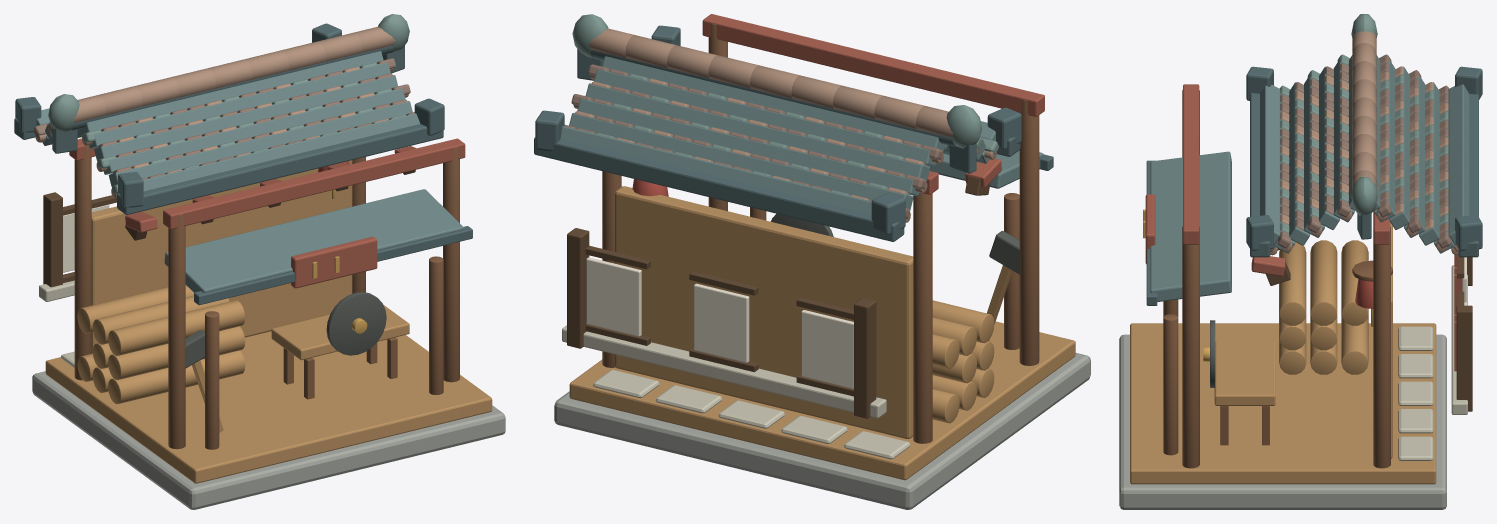
The model's file is building_lumber_open.glb.
The picture shows the model from 3 angles, left to right: view 1: azimuth 30°, elevation 25°; view 2: azimuth 150°, elevation 25°; view 3: azimuth 270°, elevation 25°; orthographic projection. The views are drawn at different scales.
Visible parts, largest first — view 1: V4_wood_light.002, V4_roof.002, V4_wood.002, V4_roof_edge.002, V4_stone.002, V4_wood_red.002, V4_roof_terracotta_light.002, V4_iron, V4_roof_moss.002, V4_roof_terracotta.002, V4_wood_dark.002, V4_plaster_light.002 (+1 smaller); view 2: V4_wood_light.002, V4_roof.002, V4_stone.002, V4_roof_edge.002, V4_wood.002, V4_plaster_light.002, V4_stone_light.002, V4_roof_terracotta_light.002, V4_wood_red.002, V4_wood_dark.002, V4_roof_moss.002, V4_roof_terracotta.002 (+1 smaller); view 3: V4_wood_light.002, V4_roof.002, V4_wood.002, V4_stone.002, V4_roof_terracotta.002, V4_roof_terracotta_light.002, V4_roof_edge.002, V4_stone_light.002, V4_wood_red.002, V4_roof_moss.002, V4_wood_dark.002, V4_cloth_red.001.
Part boxes in pixels (x1,y1,x2,y2): V4_wood_light.002: (45,160,492,483); V4_roof.002: (36,51,463,292); V4_wood.002: (74,145,459,449); V4_roof_edge.002: (14,23,472,305); V4_stone.002: (32,371,505,509); V4_wood_red.002: (69,138,465,288); V4_roof_terracotta_light.002: (35,26,408,197); V4_iron: (185,292,386,368); V4_roof_moss.002: (48,14,409,194); V4_roof_terracotta.002: (33,58,414,179); V4_wood_dark.002: (43,170,415,287); V4_plaster_light.002: (63,204,109,272); V4_wood_light.002: (569,186,1075,480); V4_roof.002: (560,56,1043,214); V4_stone.002: (554,353,1090,509); V4_roof_edge.002: (534,25,1053,241); V4_wood.002: (602,23,1039,443); V4_plaster_light.002: (586,257,853,388); V4_stone_light.002: (562,325,910,459); V4_roof_terracotta_light.002: (573,28,996,222); V4_wood_red.002: (702,14,1044,194); V4_wood_dark.002: (567,176,990,418); V4_roof_moss.002: (572,14,998,195); V4_roof_terracotta.002: (564,64,943,218); V4_wood_light.002: (1130,223,1436,484); V4_roof.002: (1150,55,1469,301); V4_wood.002: (1163,90,1392,468); V4_stone.002: (1119,334,1446,509); V4_roof_terracotta.002: (1270,54,1450,251); V4_roof_terracotta_light.002: (1270,31,1458,255); V4_roof_edge.002: (1146,66,1482,305); V4_stone_light.002: (1398,265,1467,460); V4_wood_red.002: (1145,84,1462,371); V4_roof_moss.002: (1279,14,1448,233); V4_wood_dark.002: (1266,248,1472,411); V4_cloth_red.001: (1355,279,1373,308).
Size of the model in its own units: 3.1 by 2.75 by 2.68.
